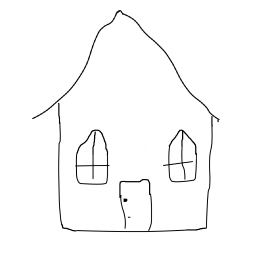closed_window: (162, 124, 203, 194), (71, 127, 115, 191)
door: (114, 171, 160, 234)
single_line_roof: (21, 5, 227, 125)
wall: (48, 110, 220, 238)
